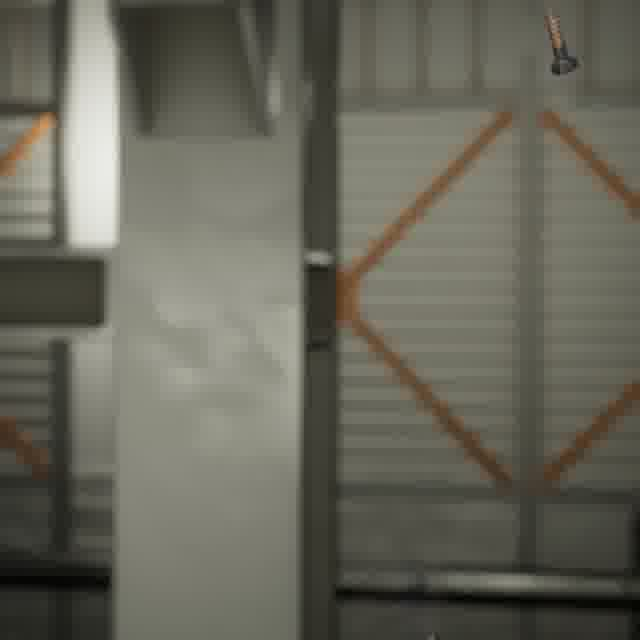bolt: (538, 4, 582, 79)
